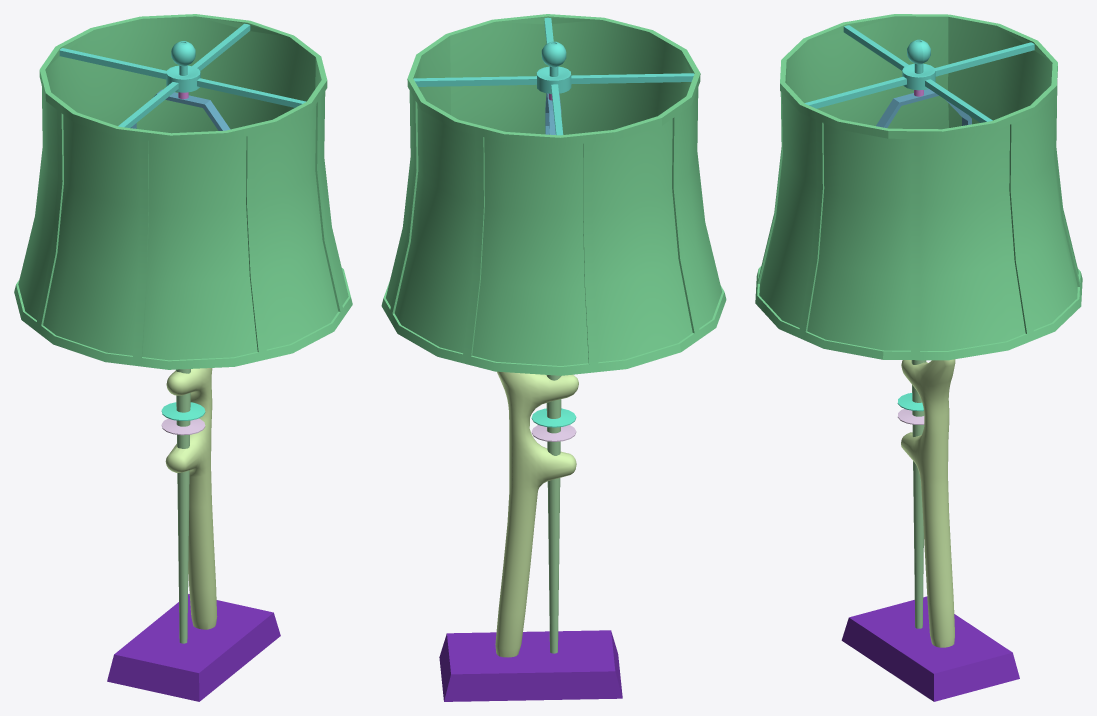
The picture shows the model from 3 angles, left to right: view 1: azimuth 30°, elevation 25°; view 2: azimuth 150°, elevation 25°; view 3: azimuth 270°, elevation 25°; orthographic projection. The views are drawn at different scales.
Parts seen in each view (by area): view 1: split_parent_4, #LMP0005_Deco_Bone_Gold_Abstract_#LMP0005_Textures_0.083, #LMP0005_Deco_Bone_Gold_Abstract_#LMP0005_Textures_0.001, split_parent_6, #LMP0005_Deco_Bone_Gold_Abstract_#LMP0005_Textures_0, split_parent_8, #LMP0005_Deco_Bone_Gold_Abstract_#LMP0005_Textures_0.003; view 2: split_parent_4, #LMP0005_Deco_Bone_Gold_Abstract_#LMP0005_Textures_0.083, #LMP0005_Deco_Bone_Gold_Abstract_#LMP0005_Textures_0.001, split_parent_6, #LMP0005_Deco_Bone_Gold_Abstract_#LMP0005_Textures_0, #LMP0005_Deco_Bone_Gold_Abstract_#LMP0005_Textures_0.003; view 3: split_parent_4, #LMP0005_Deco_Bone_Gold_Abstract_#LMP0005_Textures_0.083, #LMP0005_Deco_Bone_Gold_Abstract_#LMP0005_Textures_0.001, split_parent_6, #LMP0005_Deco_Bone_Gold_Abstract_#LMP0005_Textures_0, split_parent_8.
Boxes of the visible parts, x1,y1,x2,y2 form: split_parent_4: [14, 14, 352, 369]; #LMP0005_Deco_Bone_Gold_Abstract_#LMP0005_Textures_0.083: [107, 594, 280, 701]; #LMP0005_Deco_Bone_Gold_Abstract_#LMP0005_Textures_0.001: [165, 368, 217, 629]; split_parent_6: [59, 23, 306, 127]; #LMP0005_Deco_Bone_Gold_Abstract_#LMP0005_Textures_0: [176, 369, 190, 643]; split_parent_8: [130, 89, 230, 130]; #LMP0005_Deco_Bone_Gold_Abstract_#LMP0005_Textures_0.003: [161, 402, 205, 420]; split_parent_4: [381, 14, 726, 375]; #LMP0005_Deco_Bone_Gold_Abstract_#LMP0005_Textures_0.083: [439, 630, 622, 701]; #LMP0005_Deco_Bone_Gold_Abstract_#LMP0005_Textures_0.001: [495, 371, 578, 657]; split_parent_6: [413, 17, 694, 135]; #LMP0005_Deco_Bone_Gold_Abstract_#LMP0005_Textures_0: [546, 375, 561, 653]; #LMP0005_Deco_Bone_Gold_Abstract_#LMP0005_Textures_0.003: [531, 408, 576, 427]; split_parent_4: [755, 14, 1082, 360]; #LMP0005_Deco_Bone_Gold_Abstract_#LMP0005_Textures_0.083: [841, 596, 1019, 701]; #LMP0005_Deco_Bone_Gold_Abstract_#LMP0005_Textures_0.001: [901, 359, 955, 647]; split_parent_6: [804, 25, 1034, 122]; #LMP0005_Deco_Bone_Gold_Abstract_#LMP0005_Textures_0: [911, 360, 926, 628]; split_parent_8: [876, 89, 971, 127].
Size of the model in its own units: 0.4862 by 1 by 0.4862.
